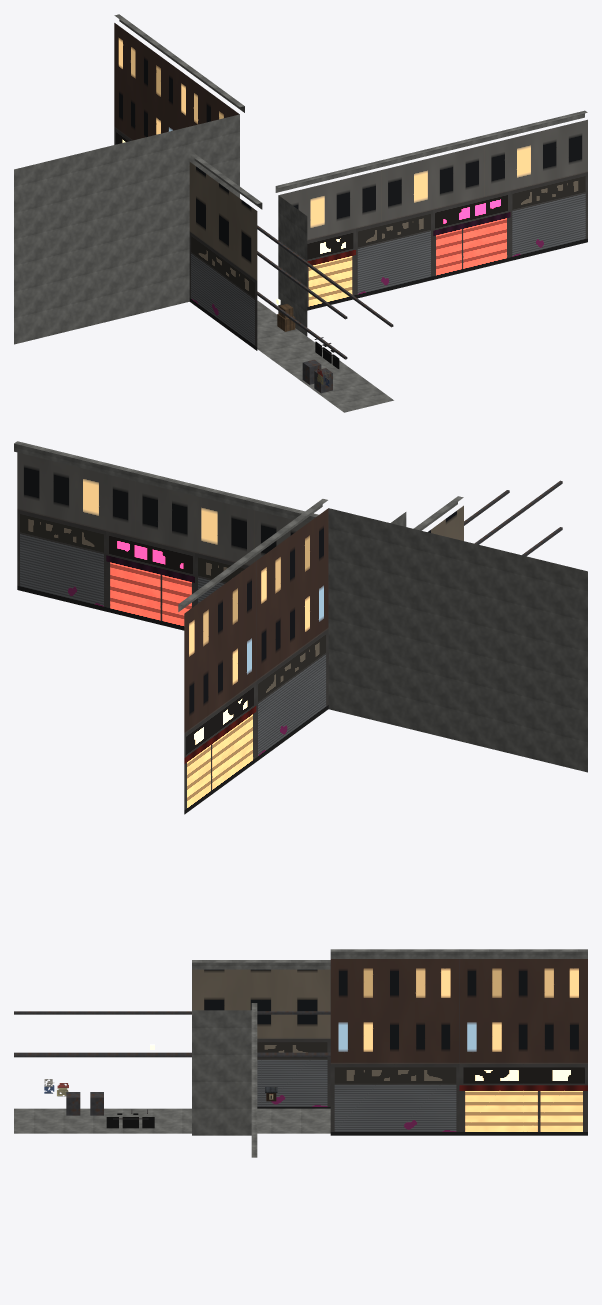
File: night_alley.glb
3 views of the same model, one above another, from view 1: azimuth 30°, elevation 25°; view 2: azimuth 150°, elevation 25°; view 3: azimuth 270°, elevation 25° (orthographic). The views are drawn at different scales.
Visible parts, largest first — view 1: night_alley; view 2: night_alley; view 3: night_alley.
Boxes of the visible parts, <box> form: night_alley: <box>14,14,587,412</box>; night_alley: <box>14,441,587,814</box>; night_alley: <box>14,949,587,1157</box>.
Size of the model in its own units: 32 by 10.4 by 29.
11 materials, 11 textured.
